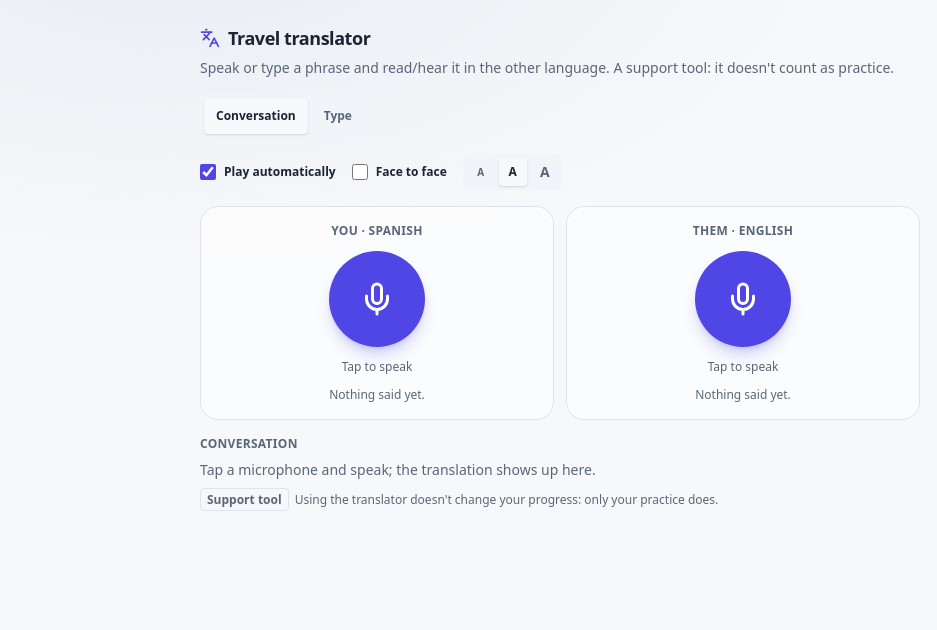
Test case: TranslatorScreen · V3.39 traductor de viaje › muestra un error y no deja resultado si el modelo no está disponible
The image size is (937, 630).
Click the button "Type" at x=338, y=116, box [312,98,364,134]
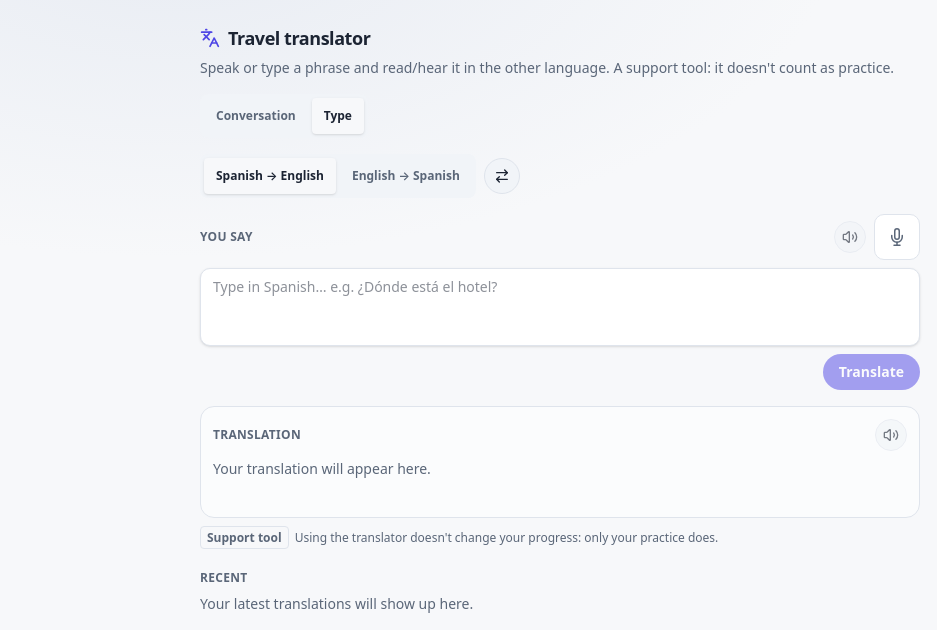
Type "Hola" into the text box named "Phrase to translate" at x=560, y=307, box [200,268,920,346]
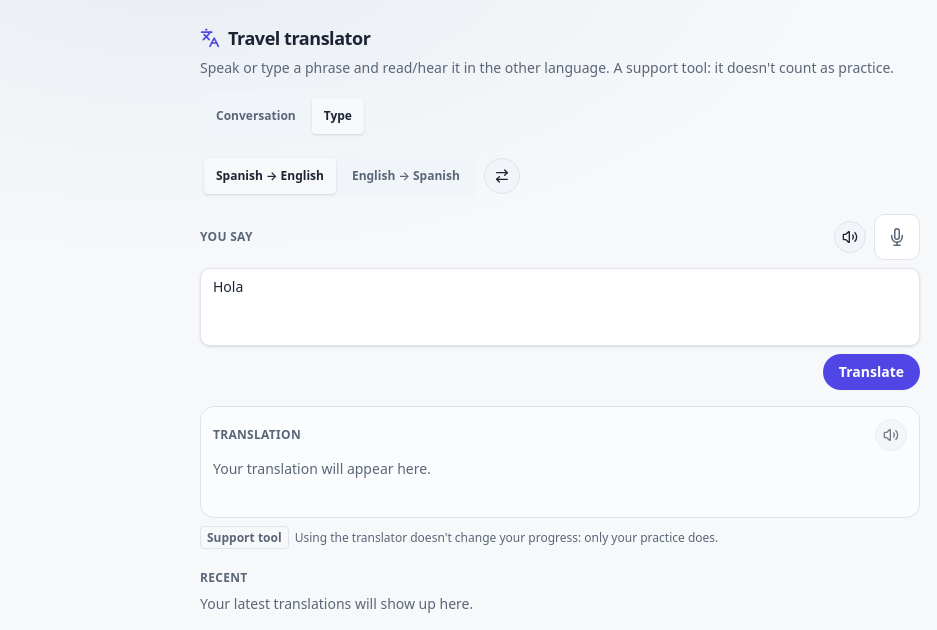
Click the button "Translate" at x=871, y=372, box [823,354,920,390]
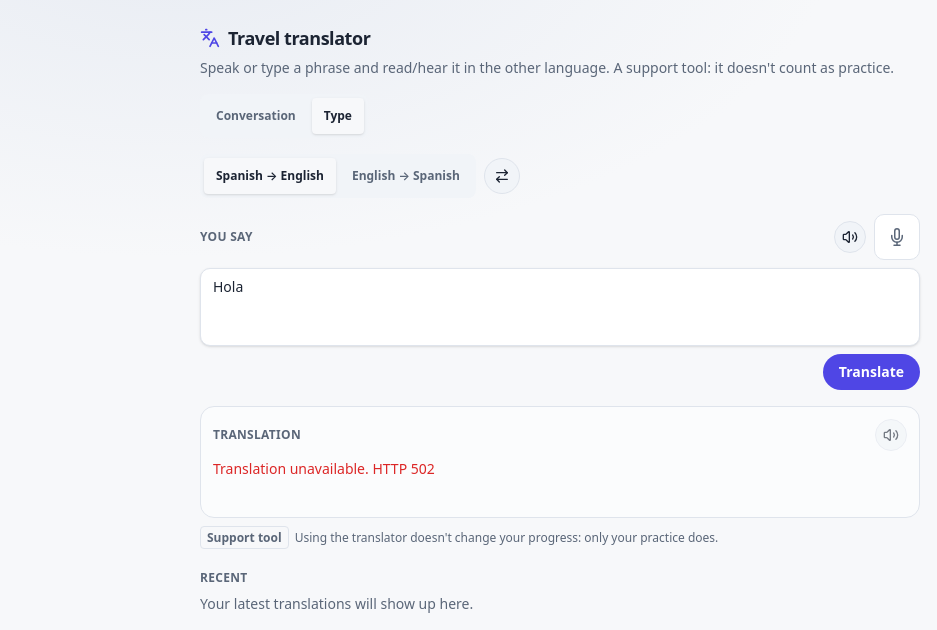
Expected: the message shows "Translation unavailable.", [213,459,435,478]
